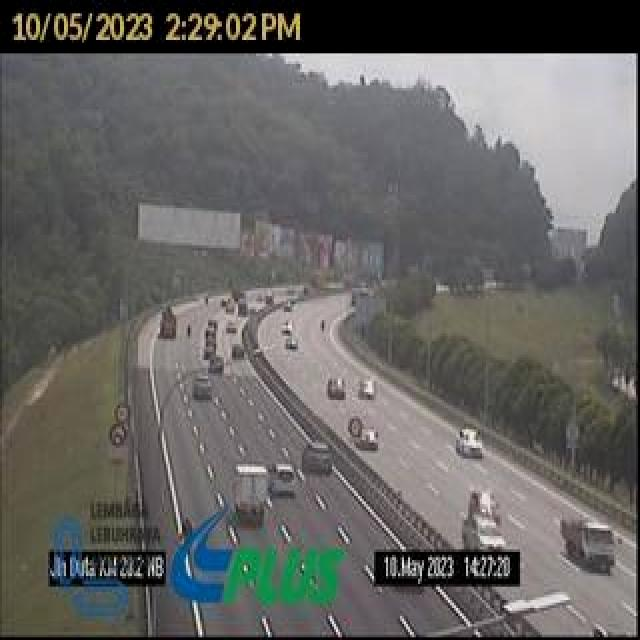Car: (456, 514, 506, 549), (302, 441, 335, 476), (469, 487, 500, 524), (272, 458, 301, 495), (350, 418, 381, 452), (458, 423, 485, 461), (192, 375, 215, 404), (359, 373, 379, 402), (325, 377, 350, 400), (208, 356, 226, 379), (230, 339, 245, 364), (204, 340, 219, 360), (285, 334, 301, 352)
Truck: (558, 514, 622, 576), (232, 466, 268, 527), (158, 308, 180, 342)
